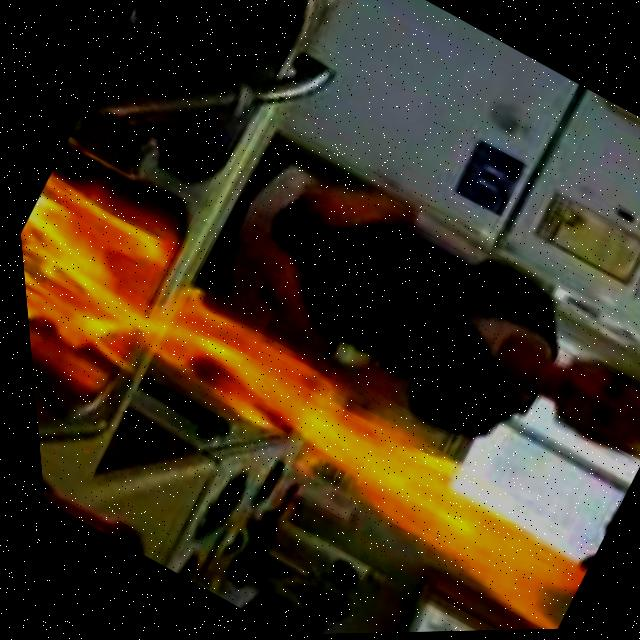Fire: (12, 162, 629, 640)
